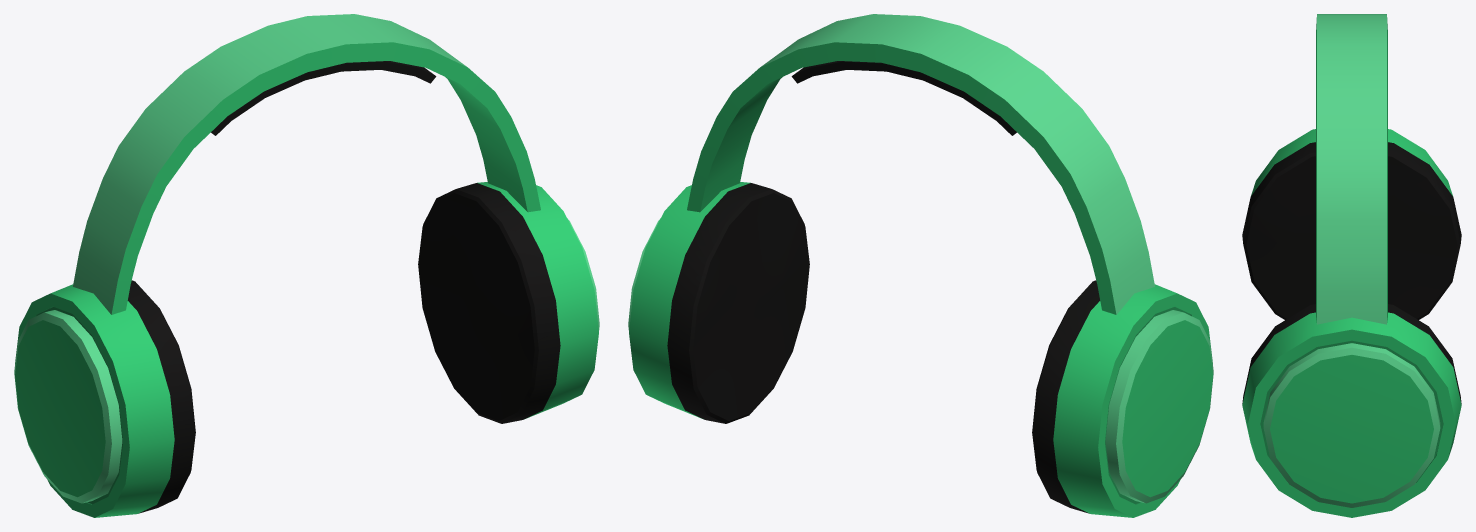
Rendered from tai nghe.fbx.
3 views of the same model, side by side, from view 1: azimuth 30°, elevation 25°; view 2: azimuth 150°, elevation 25°; view 3: azimuth 270°, elevation 25° (orthographic). The views are drawn at different scales.
Visible parts, largest first — view 1: tai_nghe; view 2: tai_nghe; view 3: tai_nghe.
Part boxes in pixels (box(x1,y1,x2,y2)): tai_nghe: box(14, 14, 599, 517); tai_nghe: box(628, 14, 1213, 517); tai_nghe: box(1242, 14, 1461, 517).
Bounding box in the file's own units: 148 × 120 × 62.18.
